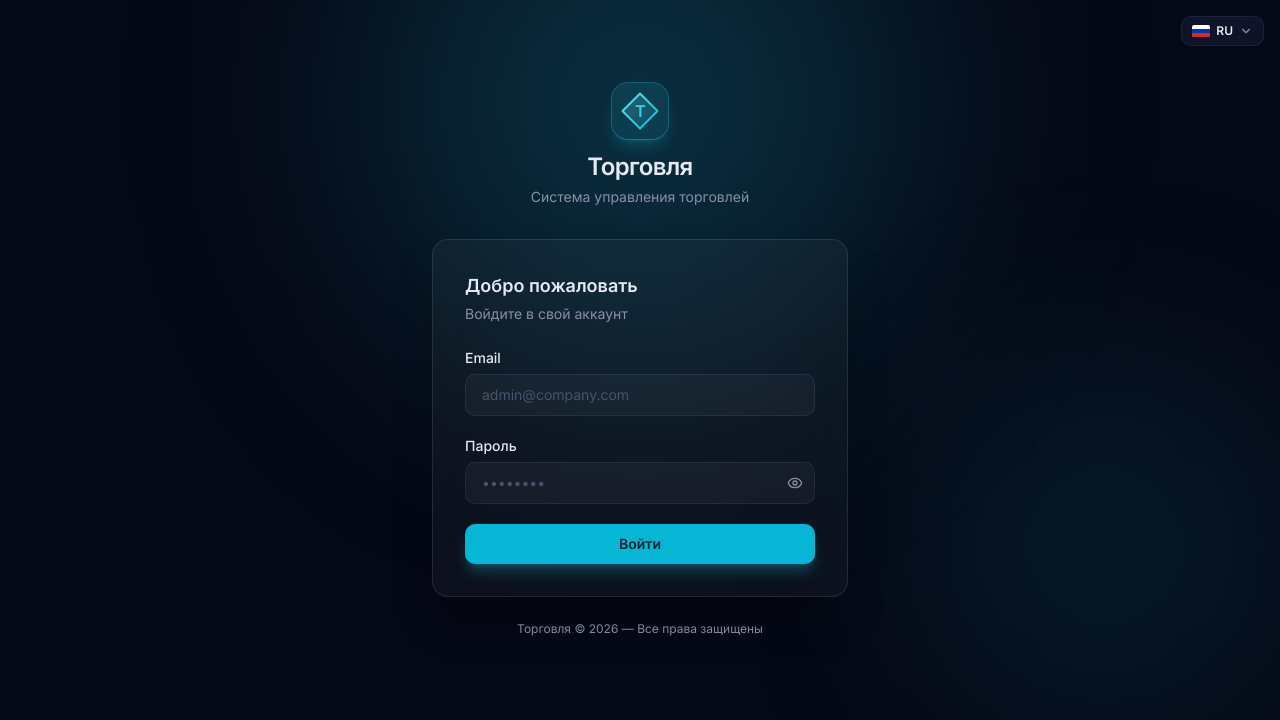
Test: LoginPage › показывает ошибку при неверных данных (401)
In the field labelled "Email": (640, 395) [465, 374, 815, 416], type "wrong@example.com"
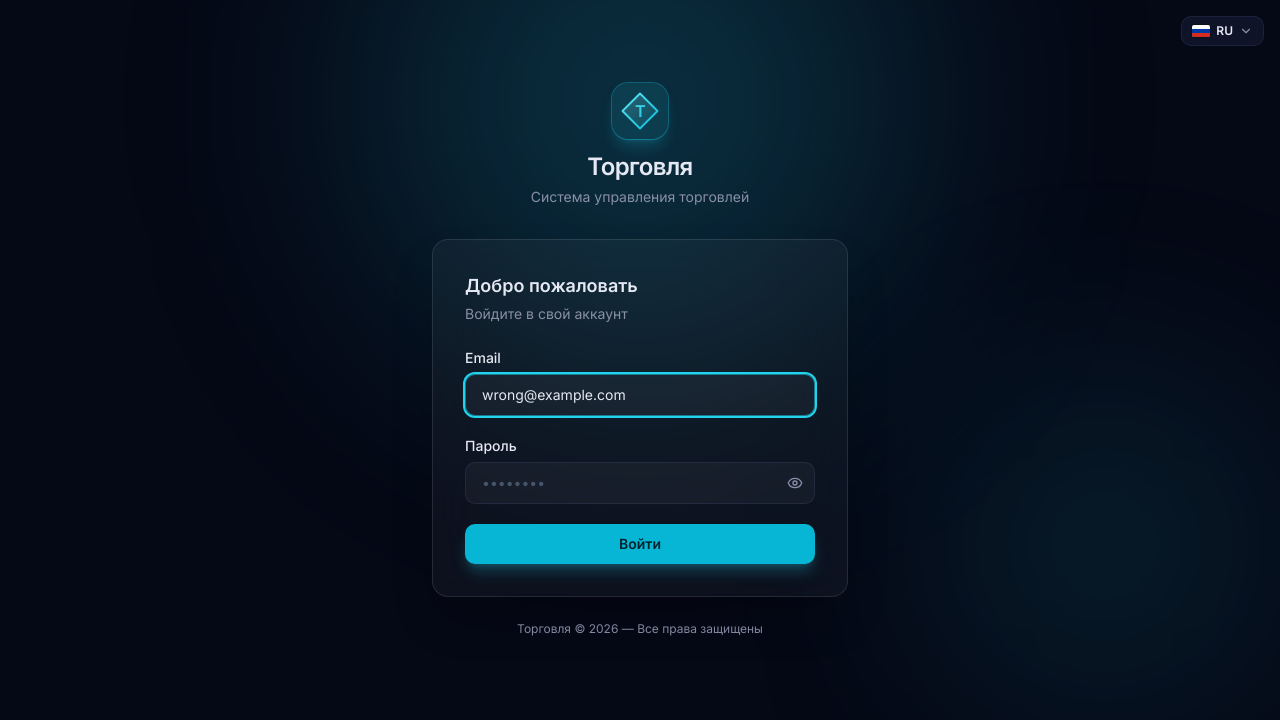
In the password field labelled "Пароль": (640, 483) [465, 462, 815, 504], type "wrongpassword"
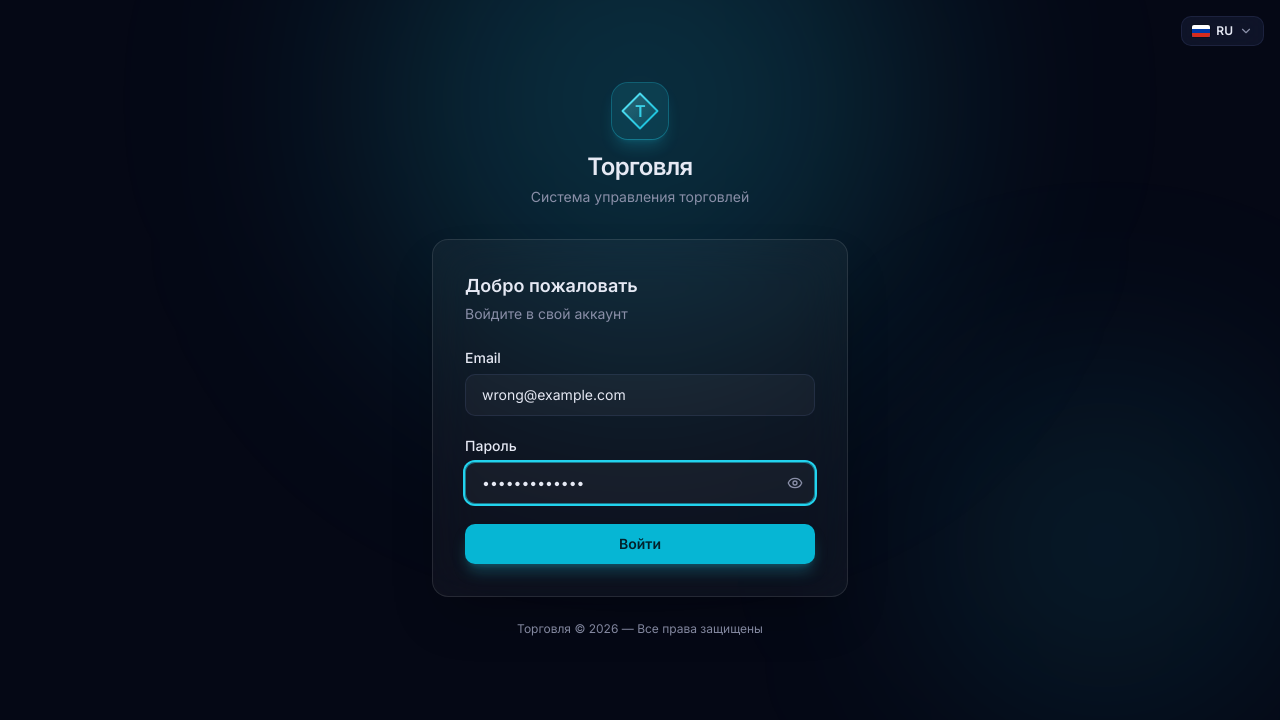
Click the button "Войти": click(640, 544) [465, 524, 815, 564]
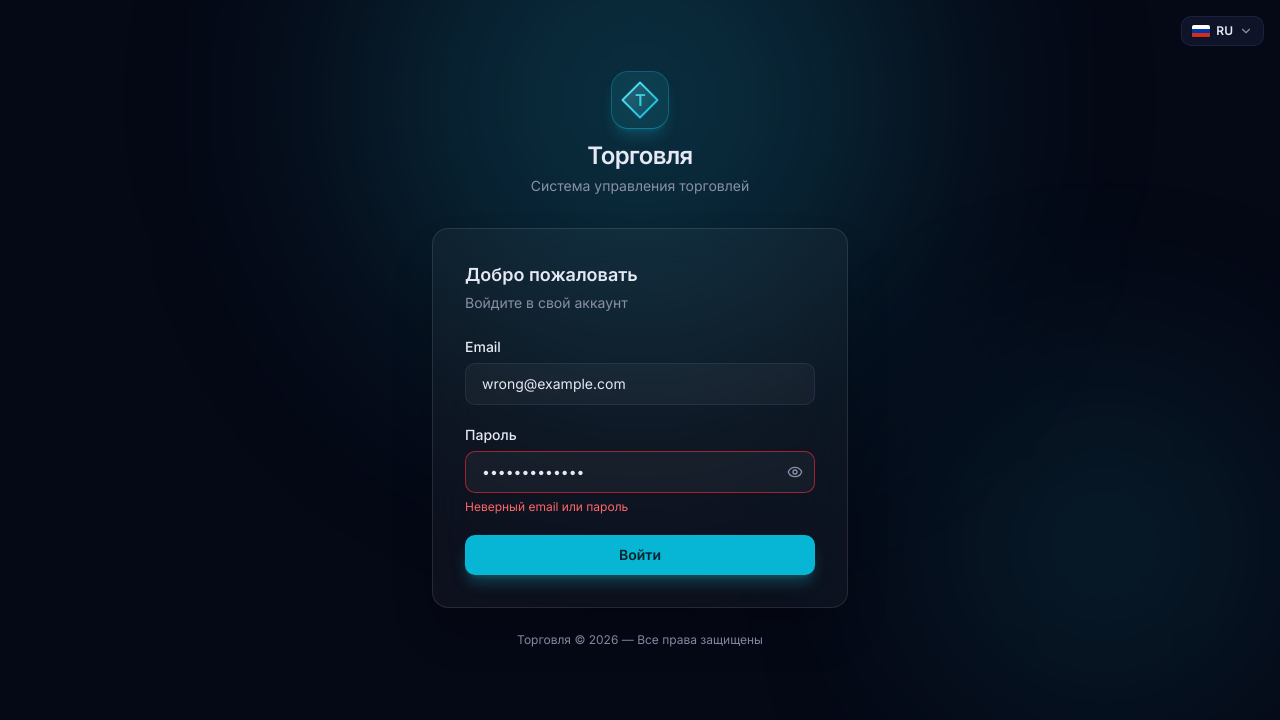
Check: the text "Неверный email или пароль" is shown, box [465, 499, 628, 514]
